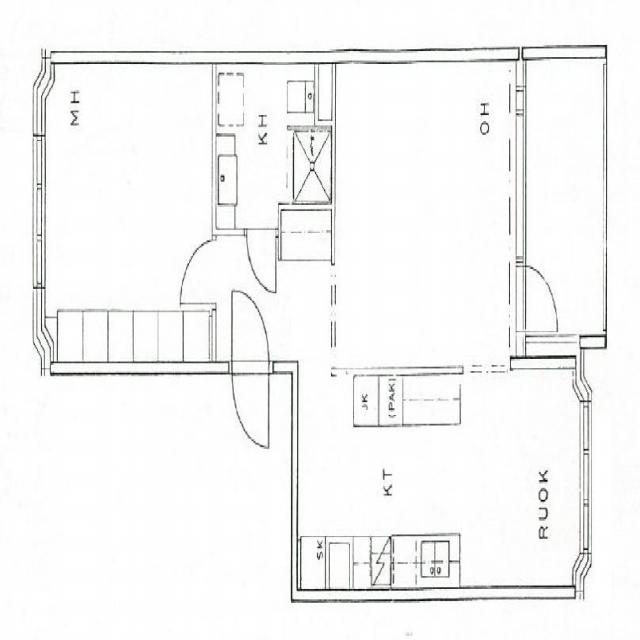door: (231, 288, 269, 374), (231, 362, 269, 447), (516, 266, 558, 331), (180, 240, 215, 304), (247, 228, 276, 294)
